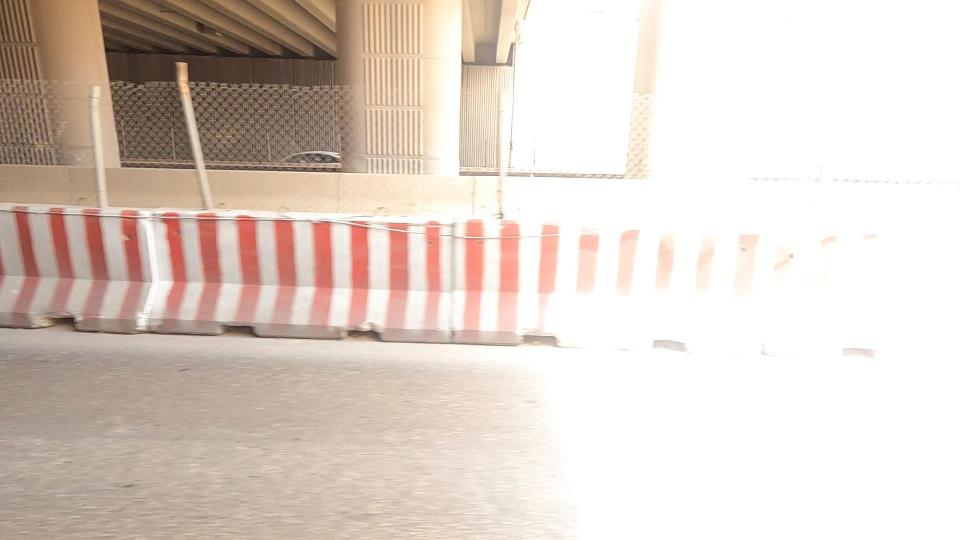CONSTRUCTION_ROAD: (257, 107, 745, 407), (0, 76, 381, 418)
